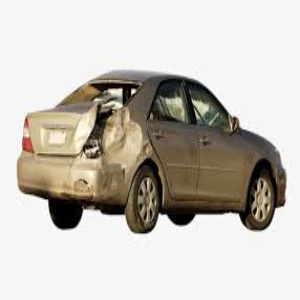bumper: (58, 158, 125, 203)
